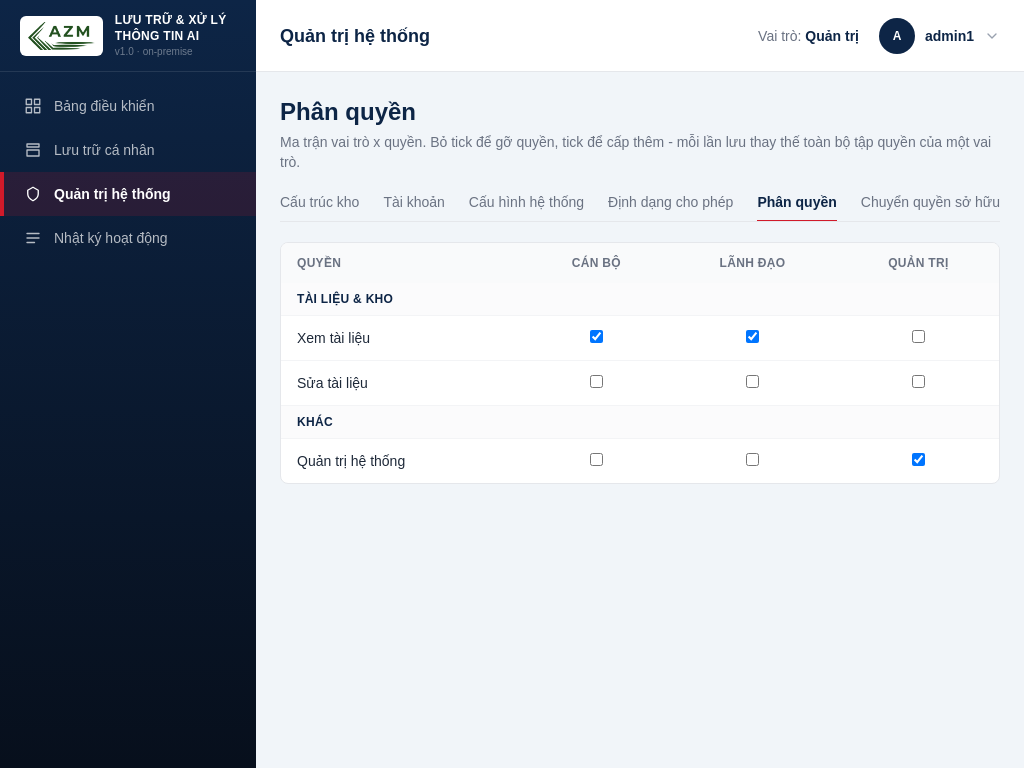
Test: RbacAdminPage › opens the preview-impact confirm dialog and saves
expect the text "Sửa tài liệu" is shown: met, box [281,360,526,406]
Click the 4th checkbox: [596, 382] box [590,375,603,388]
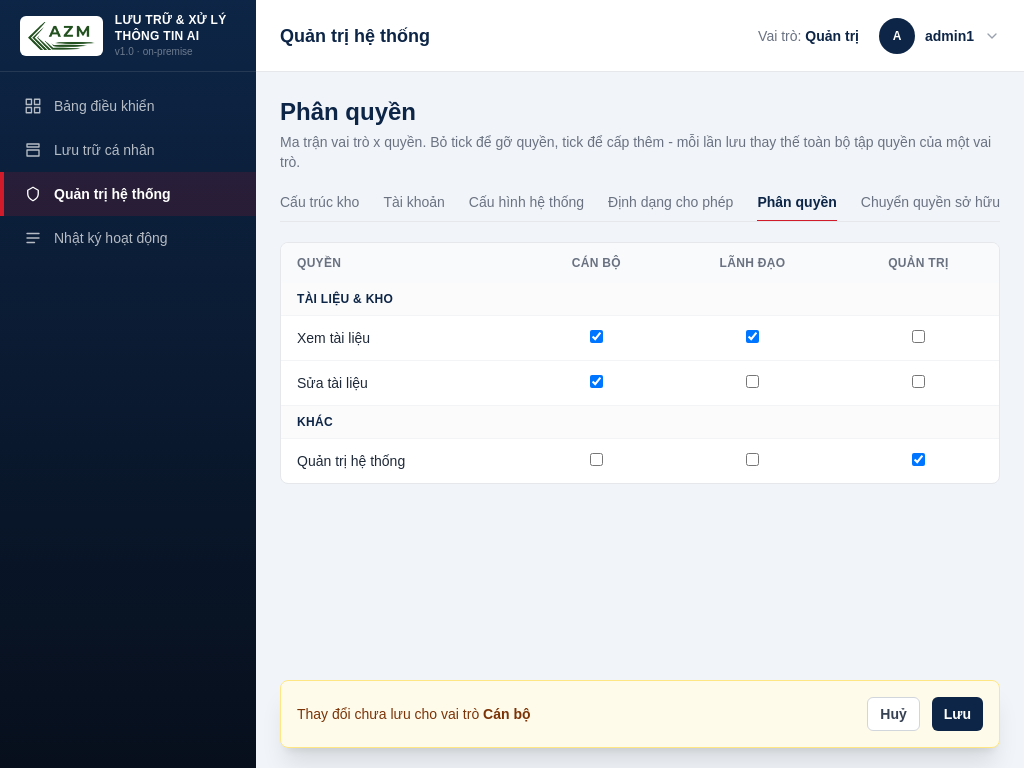
Click the button "Lưu": [957, 714] box [932,697,983,731]
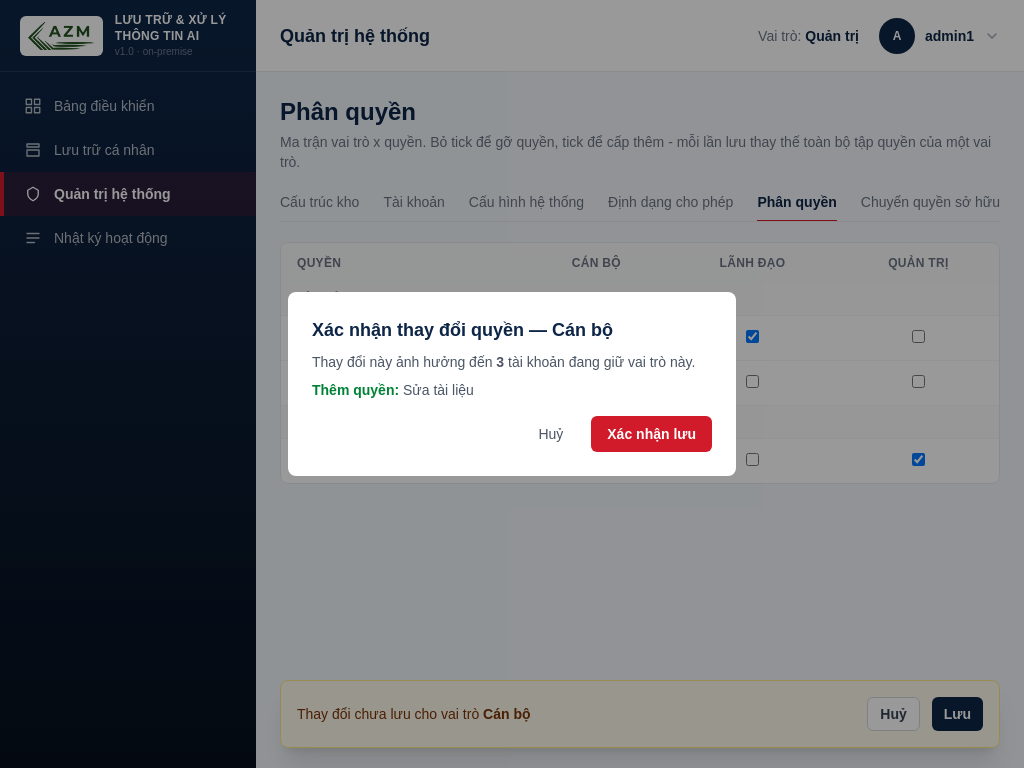
expect the heading "Xác nhận thay đổi quyền — Cán bộ" is shown: met, box [312,320,613,340]
expect the text "Thêm quyền:" is shown: met, box [312,382,403,398]
Click the button "Xác nhận lưu": [652, 434] box [591,416,712,452]
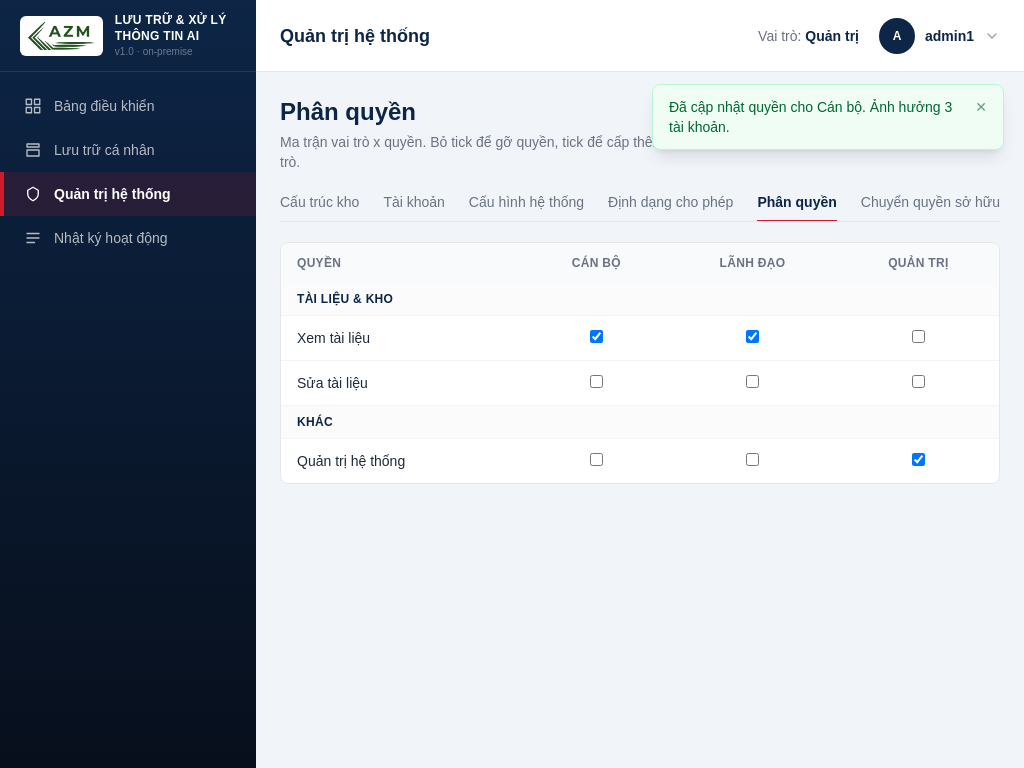
expect the text "Đã cập nhật quyền cho Cán bộ. Ảnh hưởng 3 tài khoản." is shown: met, box [669,97,963,137]
